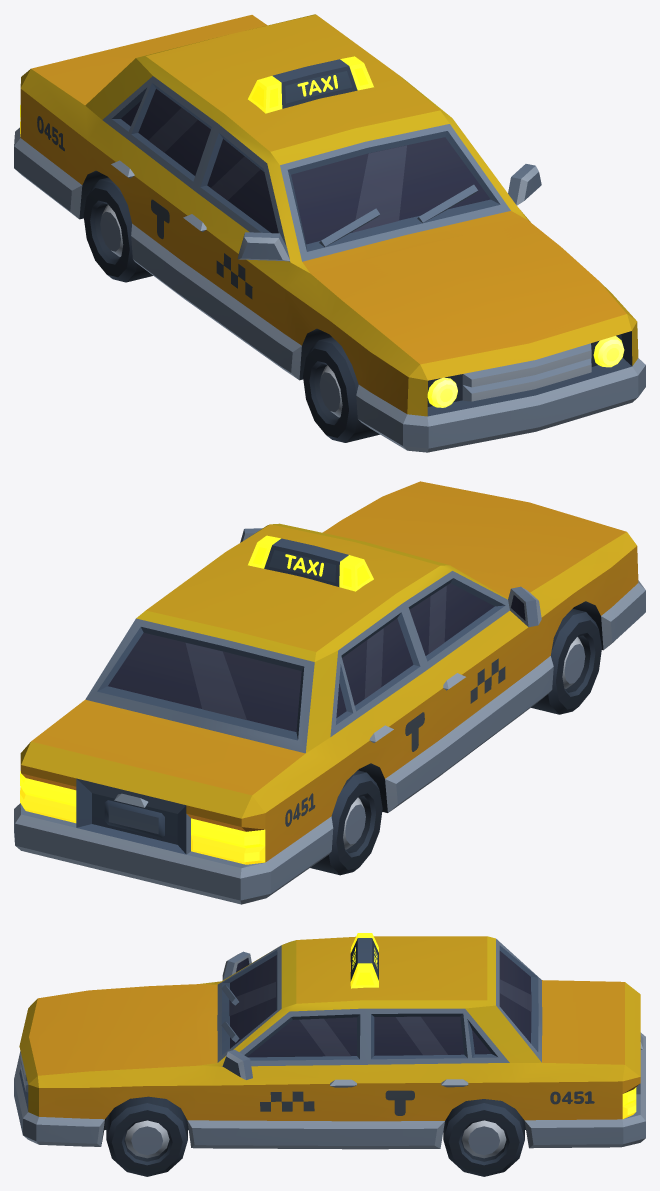
The picture shows the model from 3 angles, top to bottom: view 1: azimuth 30°, elevation 25°; view 2: azimuth 150°, elevation 25°; view 3: azimuth 270°, elevation 25°; orthographic projection. The views are drawn at different scales.
Visible parts, largest first — view 1: taxi_PF_Universal_0; view 2: taxi_PF_Universal_0; view 3: taxi_PF_Universal_0.
Boxes of the visible parts, x1=… form: taxi_PF_Universal_0: x1=14, y1=14, x2=645, y2=452; taxi_PF_Universal_0: x1=14, y1=481, x2=645, y2=904; taxi_PF_Universal_0: x1=14, y1=933, x2=645, y2=1176.
Bounding box in the file's own units: 2.46 × 1.85 × 5.82.
Materials: 1 (1 with a texture image).
